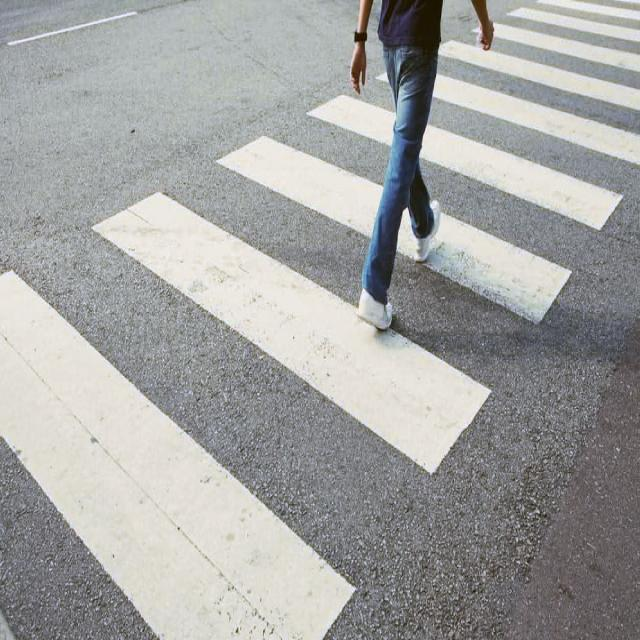Pedestrian crosswalk: (0, 0, 639, 640)
Person: (350, 0, 449, 327)
